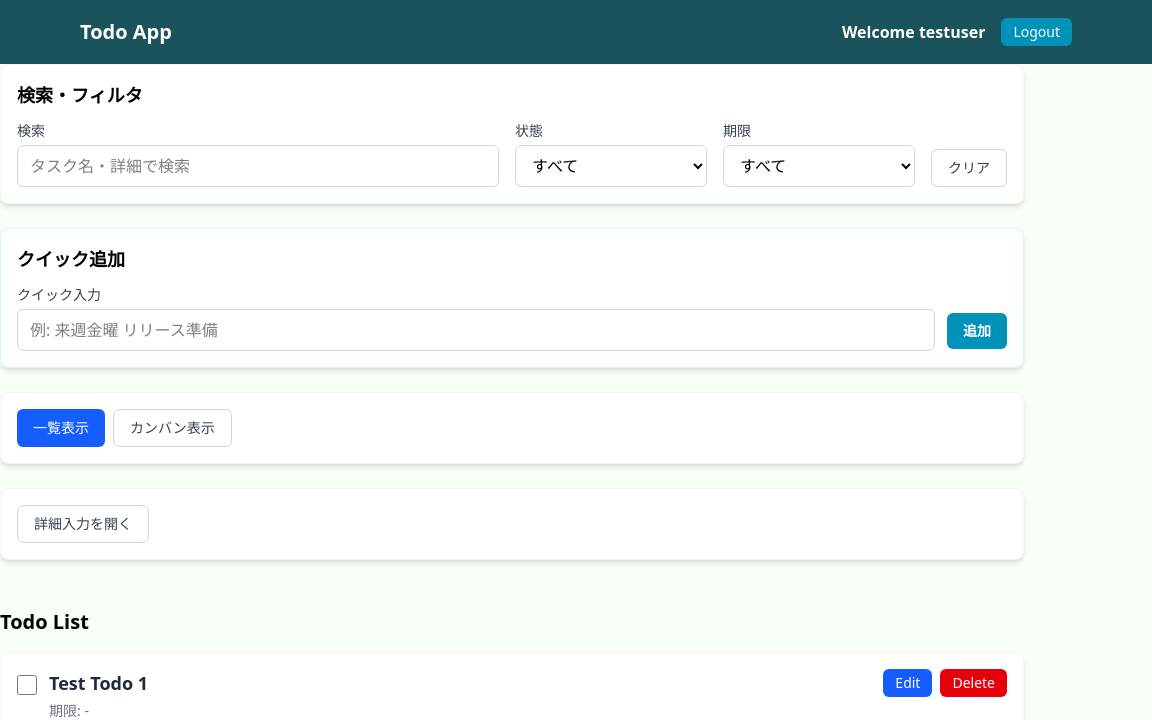
Test: DashboardPage Kanban › カンバン移動でバリデーションエラー時は再取得GETを実行する
Expected: the heading "Test Todo 1" is shown, [49,669,148,697]
Click the button "カンバン表示" at (172, 428), box [113,409,232,447]
(page scrolled)
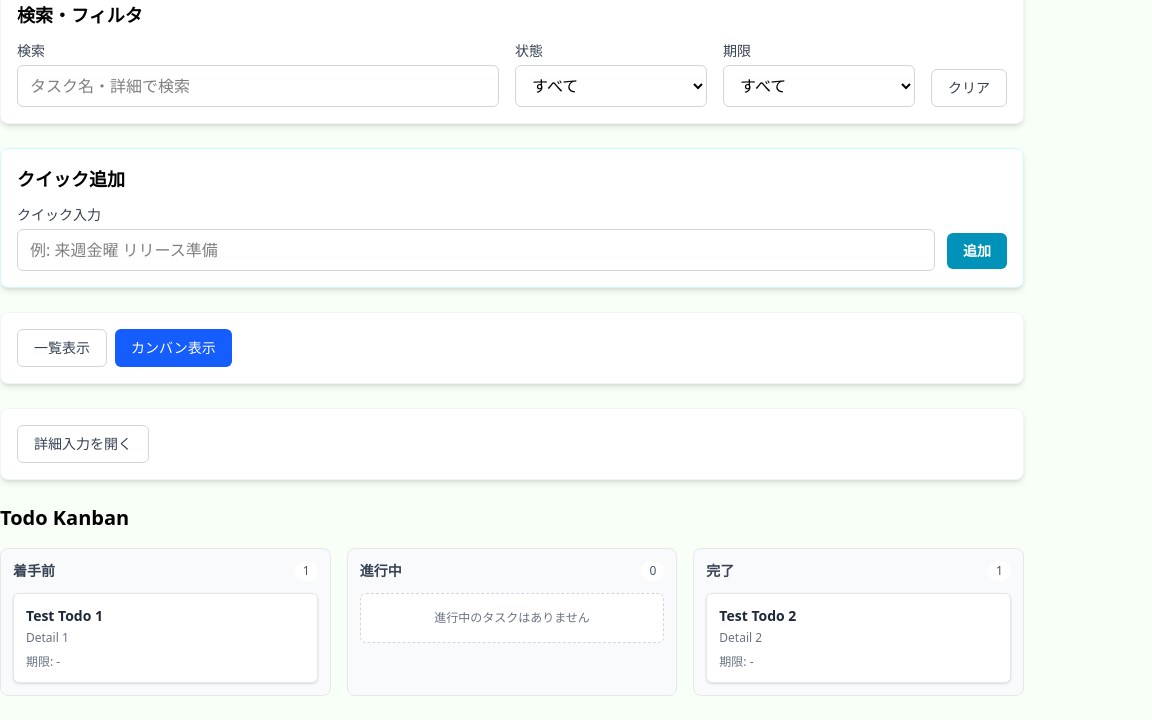
Result: the element with test id "kanban-column-not_started" is shown at [0,548,331,696]
